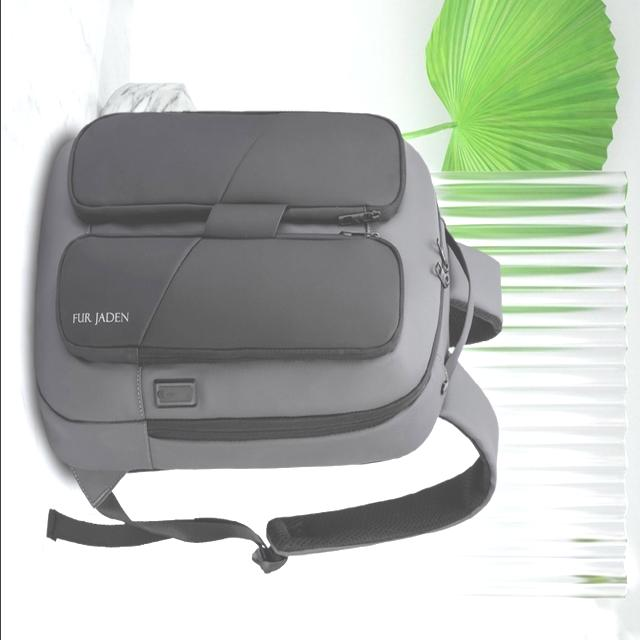backpack: (34, 110, 503, 574)
